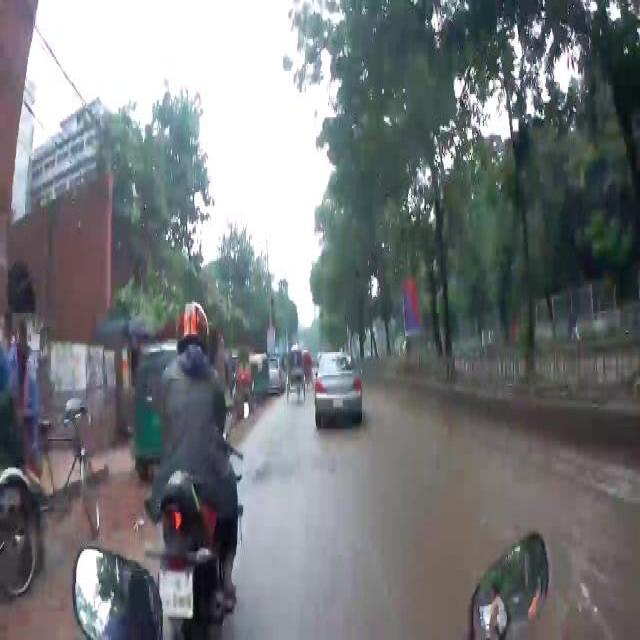car: (312, 351, 366, 435)
motorbike: (140, 396, 246, 638)
rickshaw: (282, 340, 308, 410)
